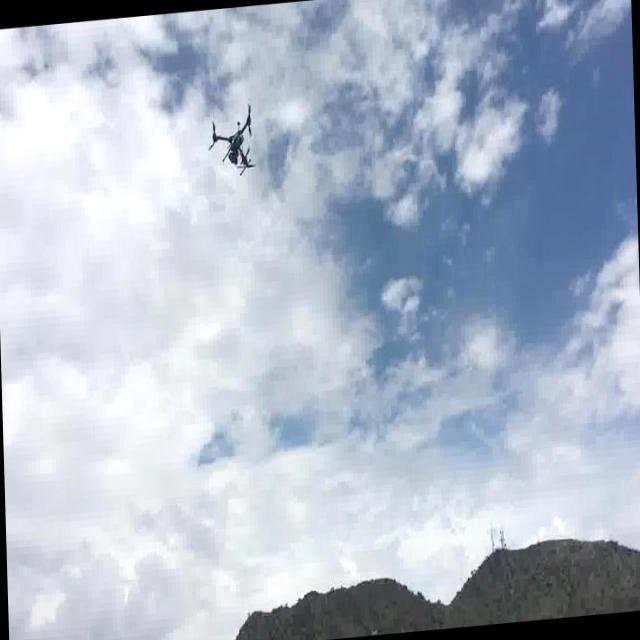drone: (208, 103, 266, 178)
